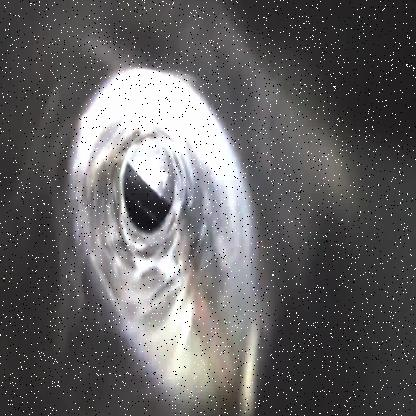Crack: (73, 66, 232, 346)
